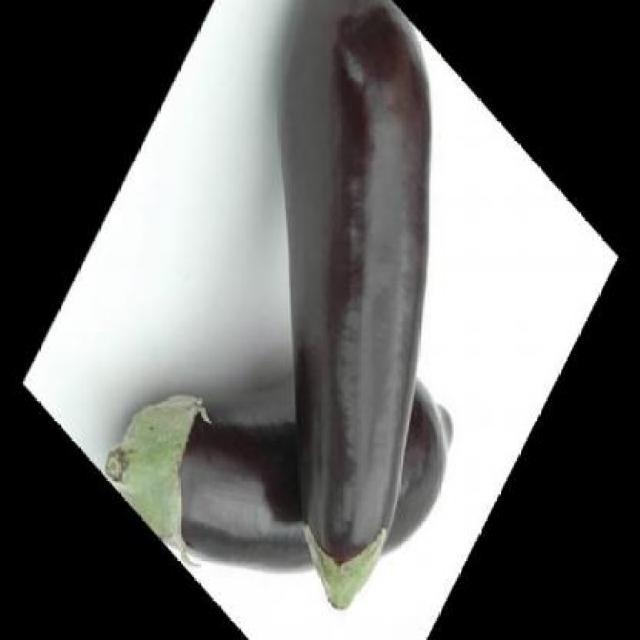eggplant: (108, 0, 562, 625), (98, 176, 471, 638)
